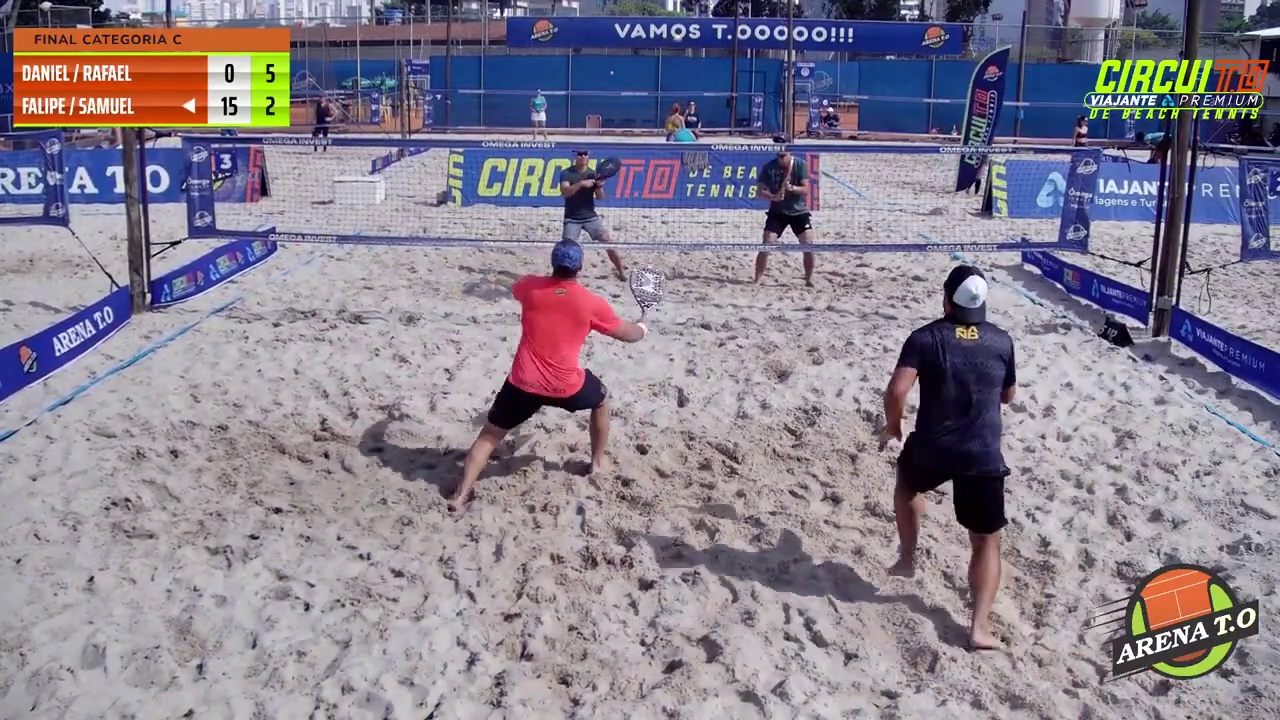court_line: (630, 0, 806, 519)
